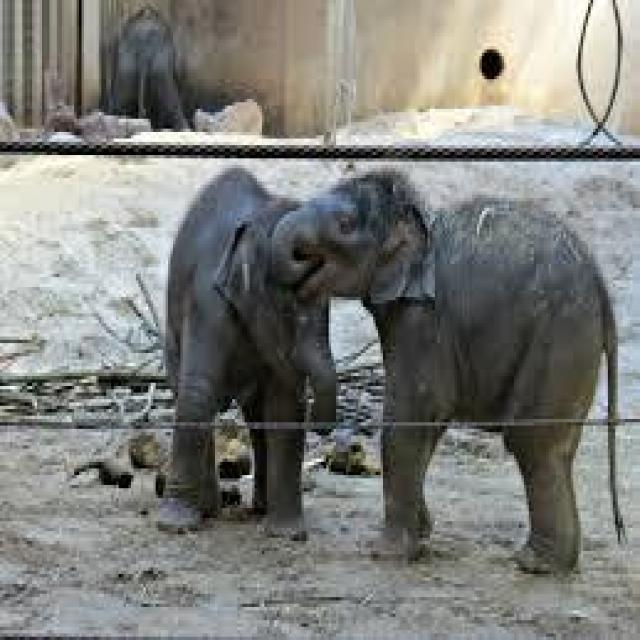Elephant: (166, 165, 630, 571), (279, 175, 623, 564)
